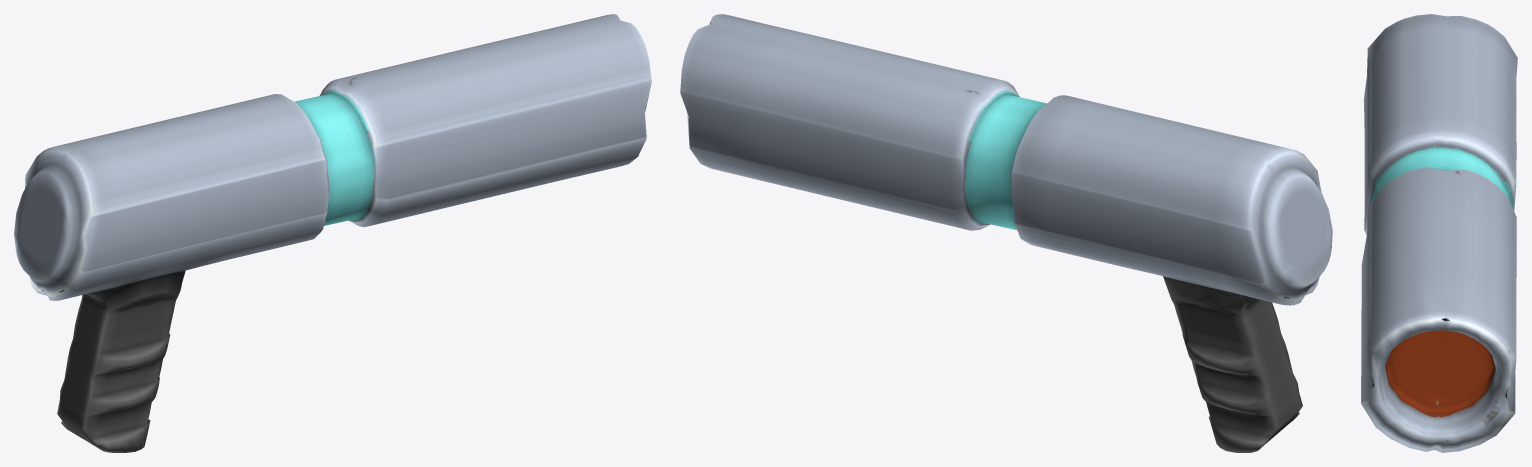
Rendered from laser_gun.fbx.
3 views of the same model, side by side, from view 1: azimuth 30°, elevation 25°; view 2: azimuth 150°, elevation 25°; view 3: azimuth 270°, elevation 25° (orthographic). The views are drawn at different scales.
Visible parts, largest first — view 1: Object_2; view 2: Object_2; view 3: Object_2.
Boxes of the visible parts, x1,y1,x2,y2 form: Object_2: [14, 14, 651, 452]; Object_2: [680, 14, 1332, 452]; Object_2: [1361, 14, 1517, 452].
Bounding box in the file's own units: 3203 × 1519 × 657.
1 material, 1 textured.
